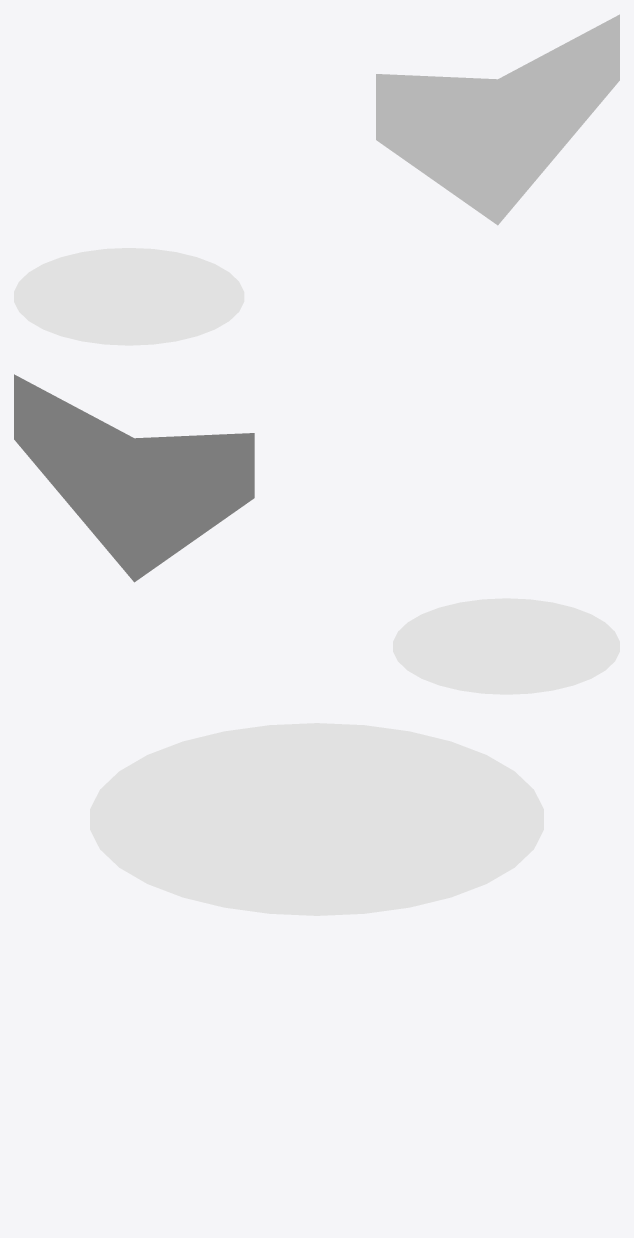
File: jiantou.fbx
3 views of the same model, one above another, from view 1: azimuth 30°, elevation 25°; view 2: azimuth 150°, elevation 25°; view 3: azimuth 270°, elevation 25° (orthographic). The views are drawn at different scales.
Parts seen in each view (by area): view 1: hx_tb_jiantou, hx_tb_yuan; view 2: hx_tb_jiantou, hx_tb_yuan; view 3: hx_tb_yuan.
Boxes of the visible parts, x1,y1,x2,y2 form: hx_tb_jiantou: (376, 14, 619, 225); hx_tb_yuan: (14, 248, 244, 345); hx_tb_jiantou: (14, 374, 254, 582); hx_tb_yuan: (393, 598, 619, 694); hx_tb_yuan: (90, 723, 543, 915).
Size of the model in its own units: 9.76 by 2.84 by 3.27.
Materials: 2 (2 with a texture image).
